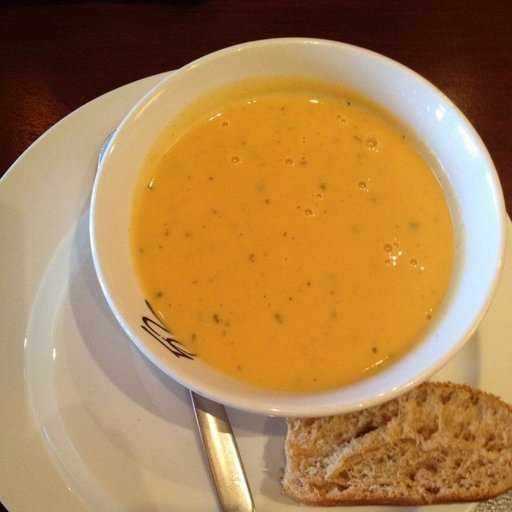soup: (111, 90, 484, 372)
